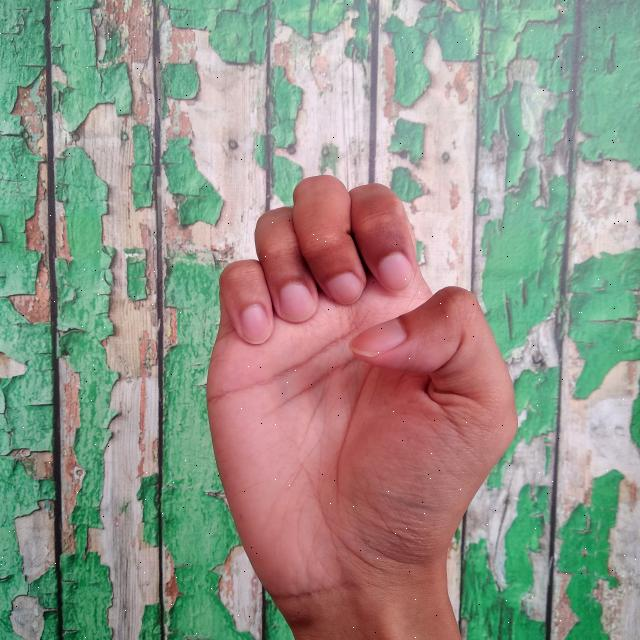E: (202, 173, 524, 640)
